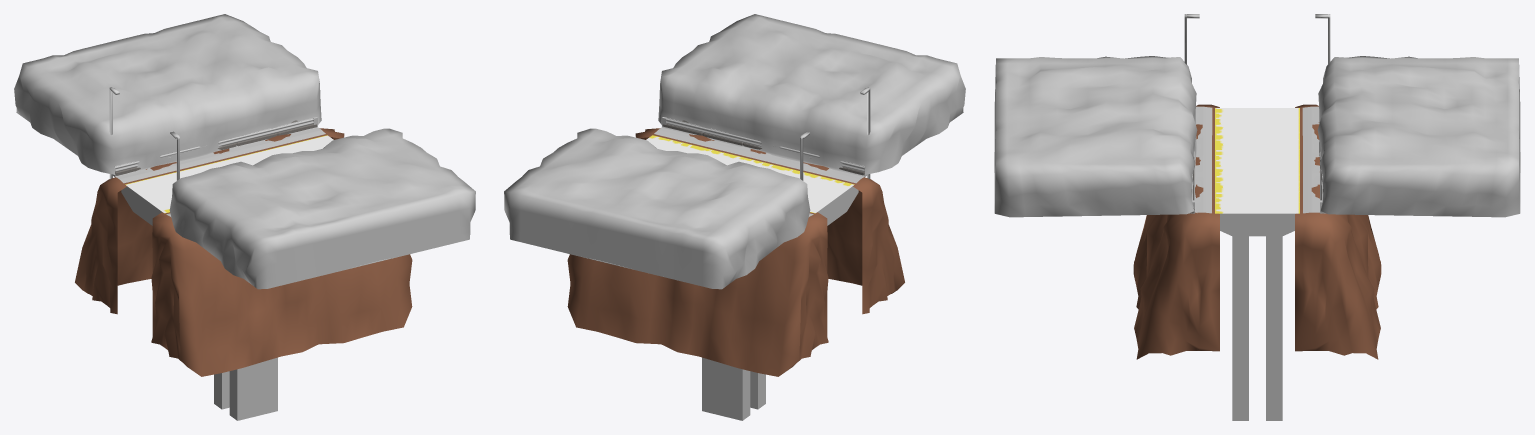
Rendered from RoadStraight_LOD0.fbx.
3 renders of one model, left to right at view 1: azimuth 30°, elevation 25°; view 2: azimuth 150°, elevation 25°; view 3: azimuth 270°, elevation 25°, orthographic. The views are drawn at different scales.
Parts seen in each view (by area): view 1: MountainRight, MountainLeft, CliffRight, CliffLeft, Road, Road Mask, PianoLeft, RailGuardLeft, ConcreteWallLeft; view 2: MountainLeft, MountainRight, CliffLeft, CliffRight, Road, Road Mask, PianoRight, RailGuardRight, ConcreteWallRight; view 3: MountainRight, MountainLeft, CliffLeft, CliffRight, Road Mask, Road, PianoLeft, PianoRight.
Part boxes in pixels (x1,y1,x2,y2): MountainRight: (169, 128, 475, 289); MountainLeft: (14, 14, 321, 177); CliffRight: (151, 212, 412, 376); CliffLeft: (75, 128, 344, 314); Road: (121, 186, 277, 420); Road Mask: (125, 135, 333, 213); PianoLeft: (116, 127, 325, 183); RailGuardLeft: (115, 118, 313, 171); ConcreteWallLeft: (115, 120, 316, 175); MountainLeft: (504, 128, 810, 289); MountainRight: (658, 14, 965, 177); CliffLeft: (567, 212, 828, 376); CliffRight: (635, 128, 904, 314); Road: (702, 186, 858, 420); Road Mask: (646, 135, 854, 213); PianoRight: (654, 127, 864, 183); RailGuardRight: (666, 118, 864, 171); ConcreteWallRight: (663, 120, 864, 175); MountainRight: (994, 56, 1197, 217); MountainLeft: (1317, 56, 1520, 217); CliffLeft: (1295, 104, 1381, 359); CliffRight: (1133, 104, 1219, 359); Road Mask: (1215, 108, 1299, 213); Road: (1219, 213, 1295, 420); PianoLeft: (1302, 106, 1319, 213); PianoRight: (1195, 106, 1212, 213).
Size of what is drawn, in the model's own units: 595 by 755 by 1052.
